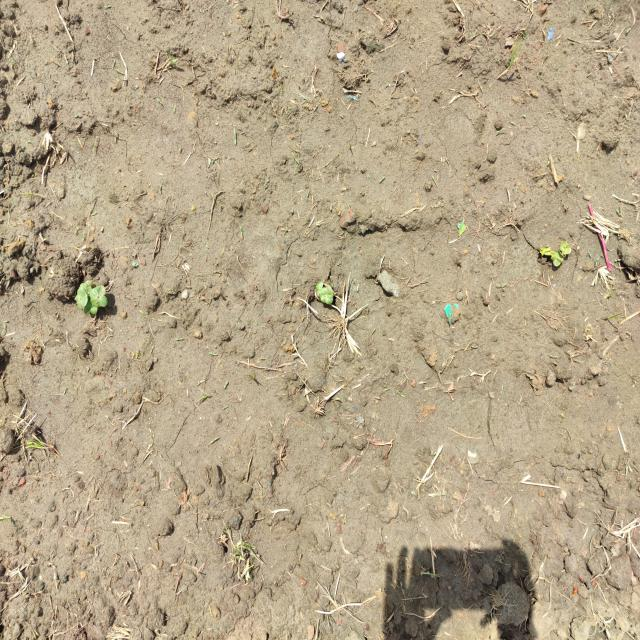seedling_s1: (90, 296, 108, 307), (89, 286, 105, 298), (77, 288, 87, 307), (543, 246, 556, 260), (553, 251, 564, 267), (560, 240, 571, 254), (84, 295, 91, 315), (326, 285, 333, 304), (80, 283, 91, 294), (74, 295, 82, 309), (320, 287, 327, 303), (316, 282, 323, 297), (90, 303, 98, 314)
